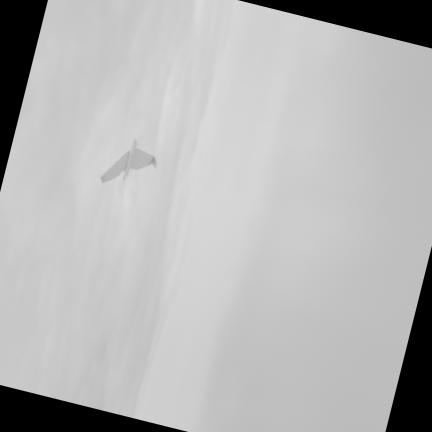Shahed: (100, 138, 155, 184)
